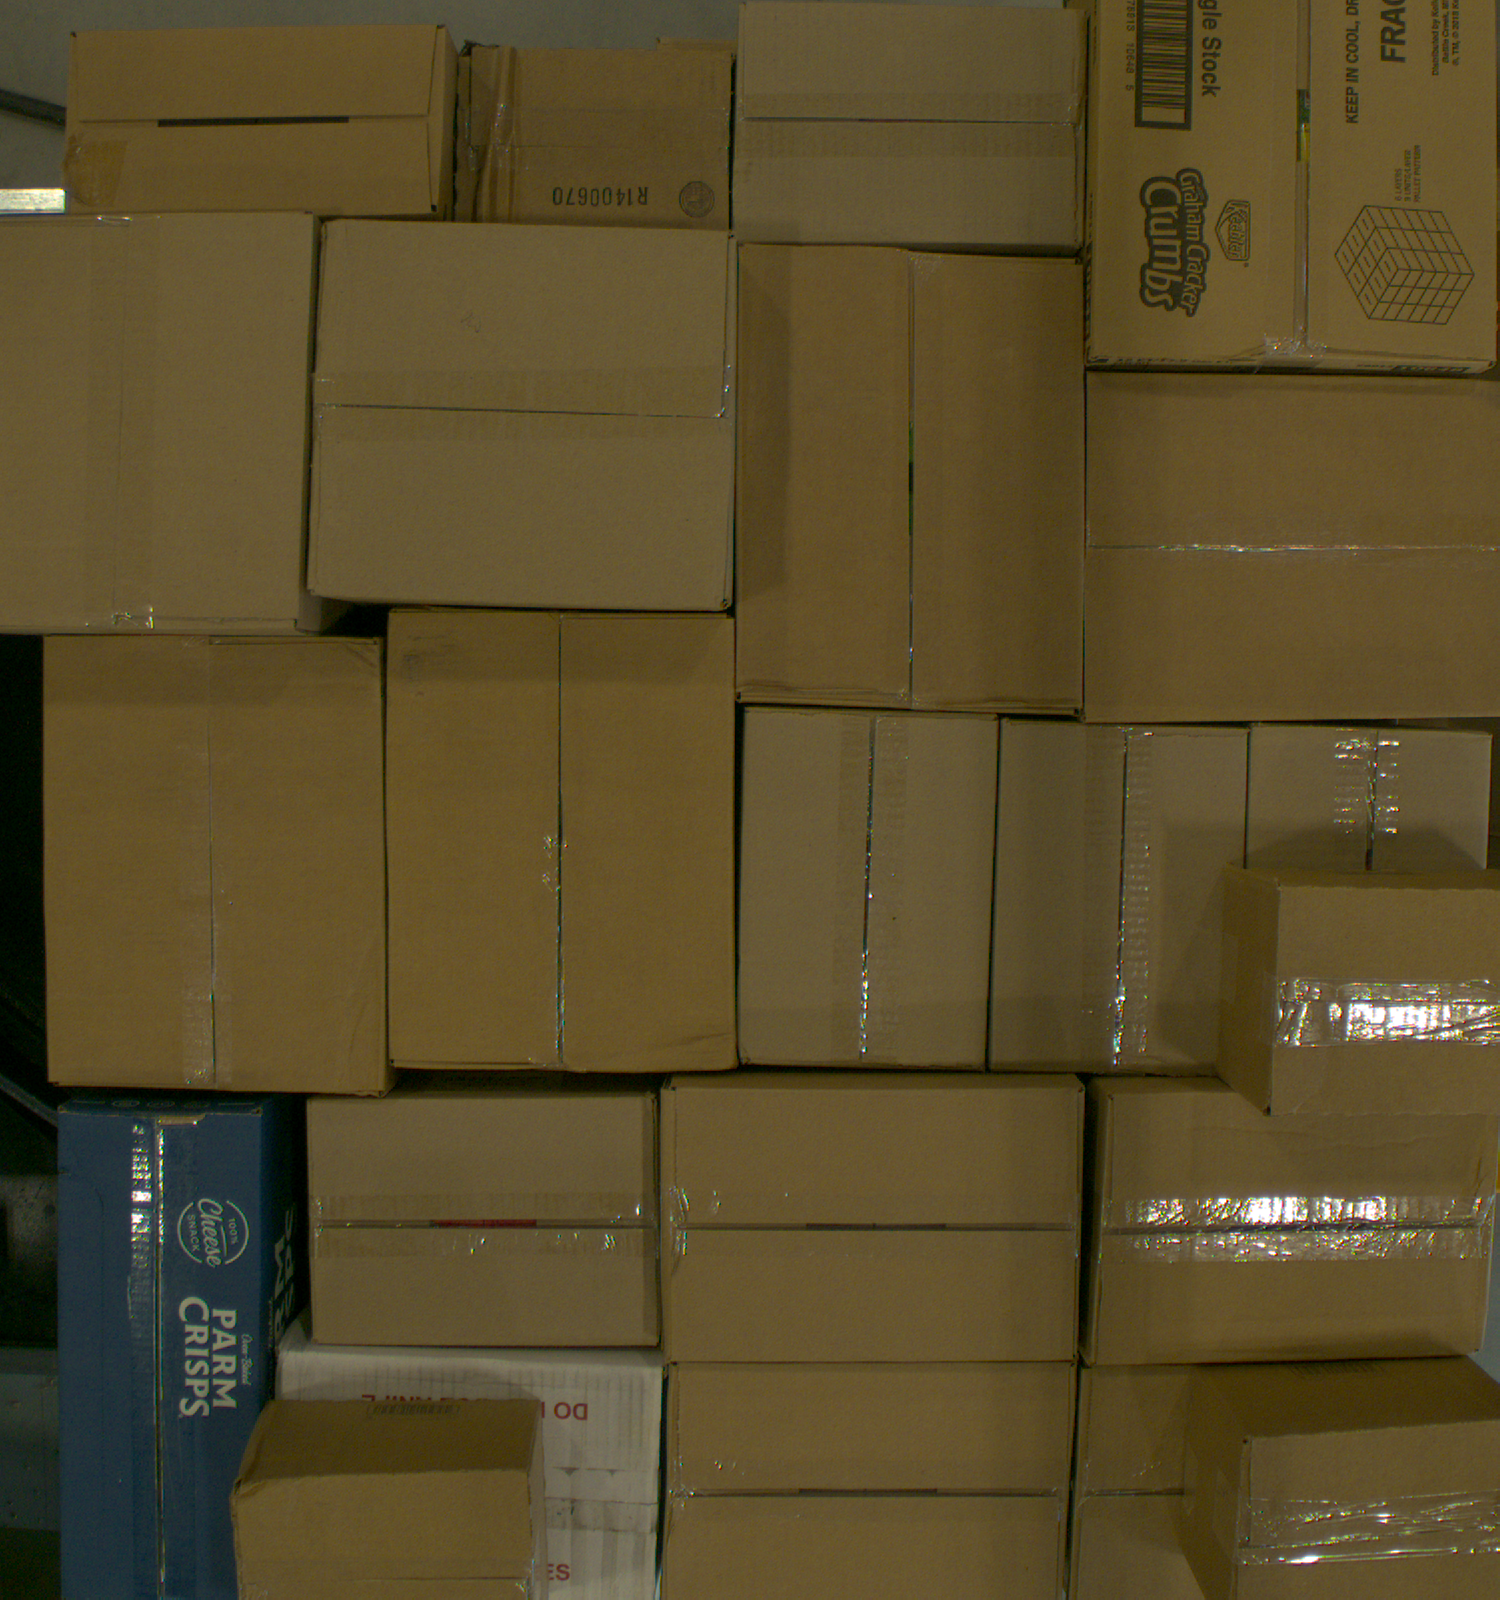box top: (312, 223, 737, 612), (737, 244, 1086, 718), (388, 612, 736, 1074), (47, 633, 388, 1095), (1093, 1, 1494, 368), (1086, 369, 1500, 720), (1, 211, 320, 630), (664, 1078, 1088, 1355), (1090, 1094, 1500, 1365), (59, 1112, 264, 1600), (663, 1363, 1078, 1600), (276, 1350, 664, 1600), (985, 713, 1246, 1076), (737, 708, 995, 1070), (309, 1093, 660, 1343), (734, 1, 1088, 247), (66, 25, 445, 216), (1272, 884, 1500, 1119), (453, 47, 730, 230), (1232, 1420, 1500, 1600), (230, 1470, 534, 1600), (1248, 723, 1492, 868), (1069, 1367, 1205, 1600)
